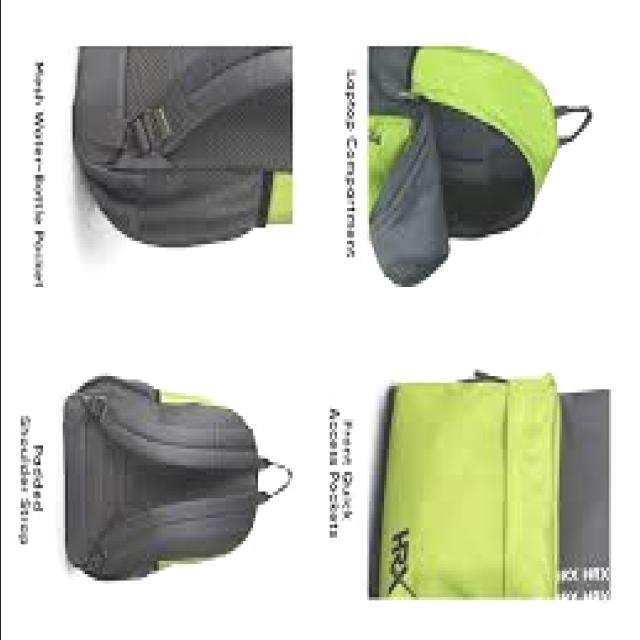backpack: (369, 44, 594, 288), (65, 374, 295, 582), (75, 44, 295, 248)
